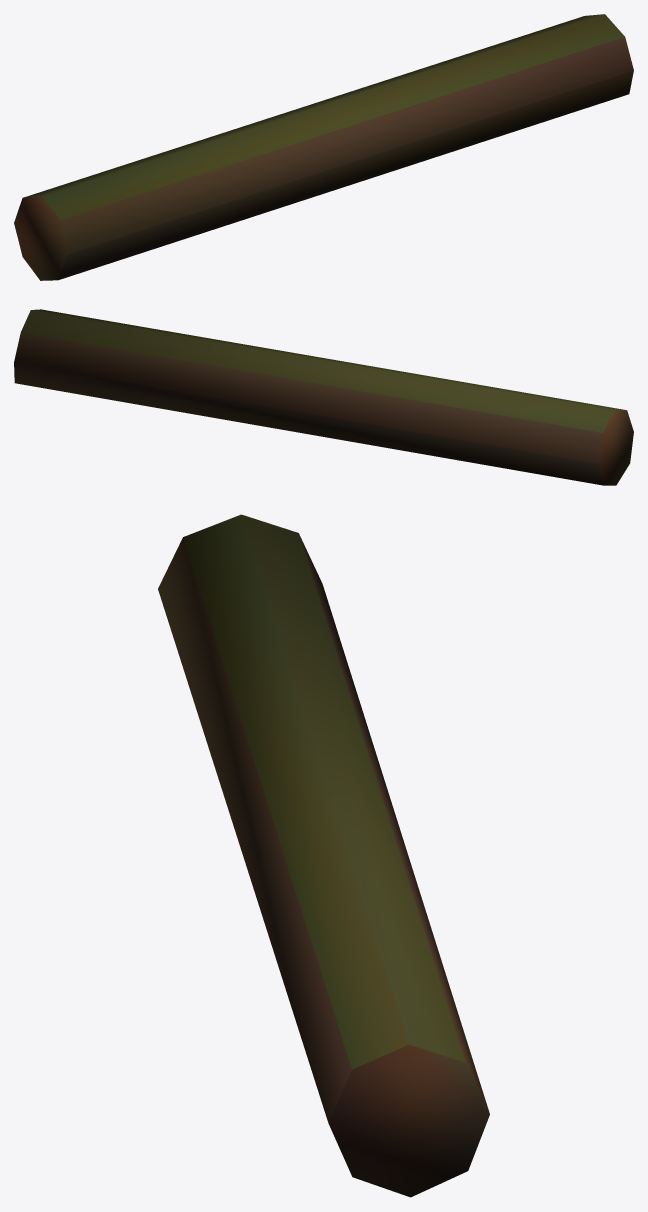
The model's file is deadwood_bk_foret_broceliande_0005.glb.
3 views of the same model, one above another, from view 1: azimuth 30°, elevation 25°; view 2: azimuth 150°, elevation 25°; view 3: azimuth 270°, elevation 25° (orthographic). The views are drawn at different scales.
Visible parts, largest first — view 1: deadwood_bk_005; view 2: deadwood_bk_005; view 3: deadwood_bk_005.
Boxes of the visible parts, x1,y1,x2,y2 form: deadwood_bk_005: (14, 14, 633, 280); deadwood_bk_005: (14, 309, 633, 485); deadwood_bk_005: (158, 514, 489, 1197).
Size of the model in its own units: 1.63 by 0.2083 by 0.4219.
